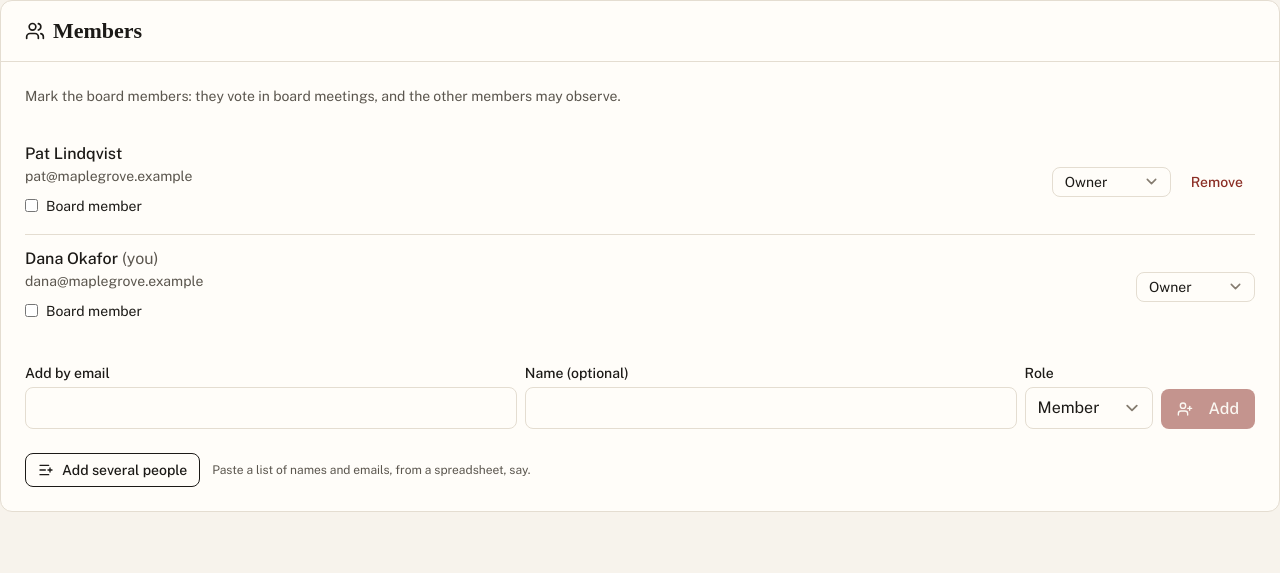
Test: MembersCard › lets an owner step down while another owner remains, and says why not otherwise
The width and height of the screenshot is (1280, 573).
Step 1. Select "Admin" in the dropdown named "Role of Dana Okafor" → (1196, 286), box [1136, 272, 1255, 302]
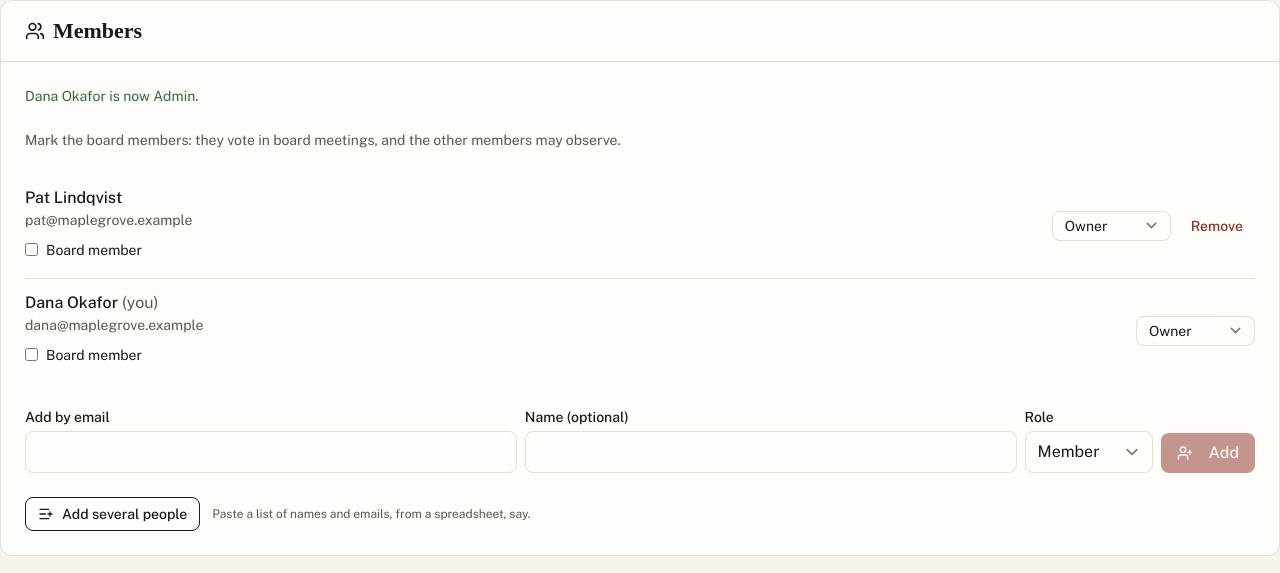
Now the text "Dana Okafor is now Admin." is shown, box [25, 88, 198, 104]
Step 2. Select "Admin" in the dropdown named "Role of Dana Okafor" → (1196, 330), box [1136, 316, 1255, 346]
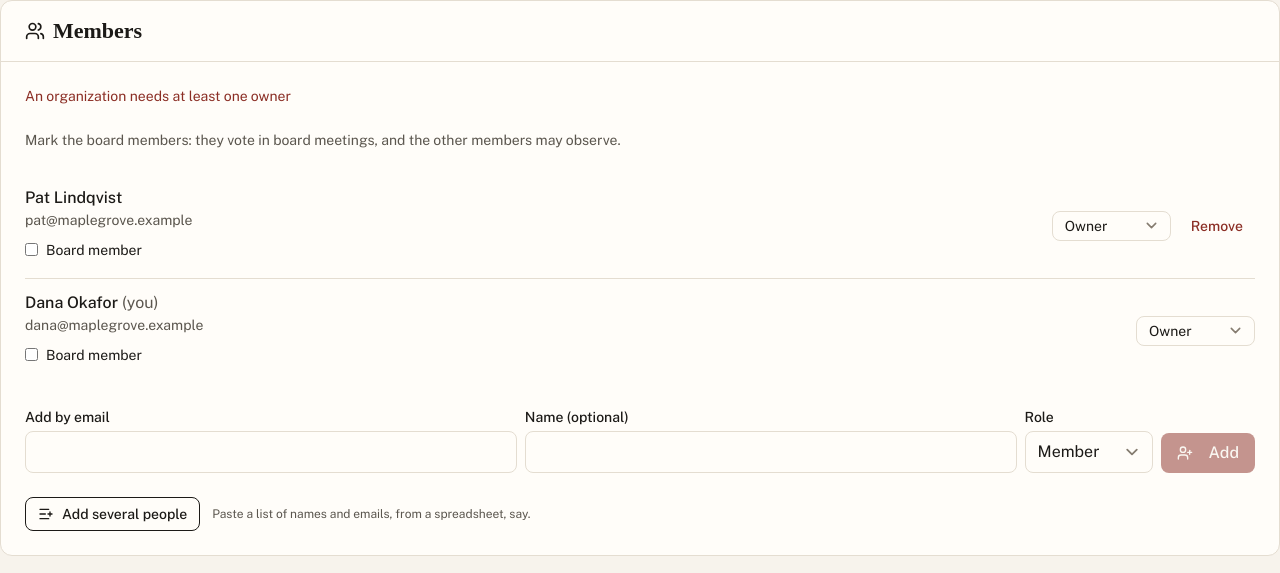
Now the message reads "An organization needs at least one owner", box [25, 88, 291, 104]
